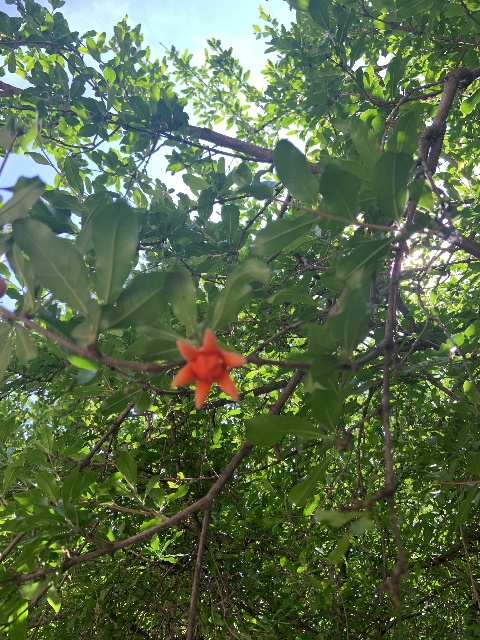flower: (170, 327, 245, 407)
